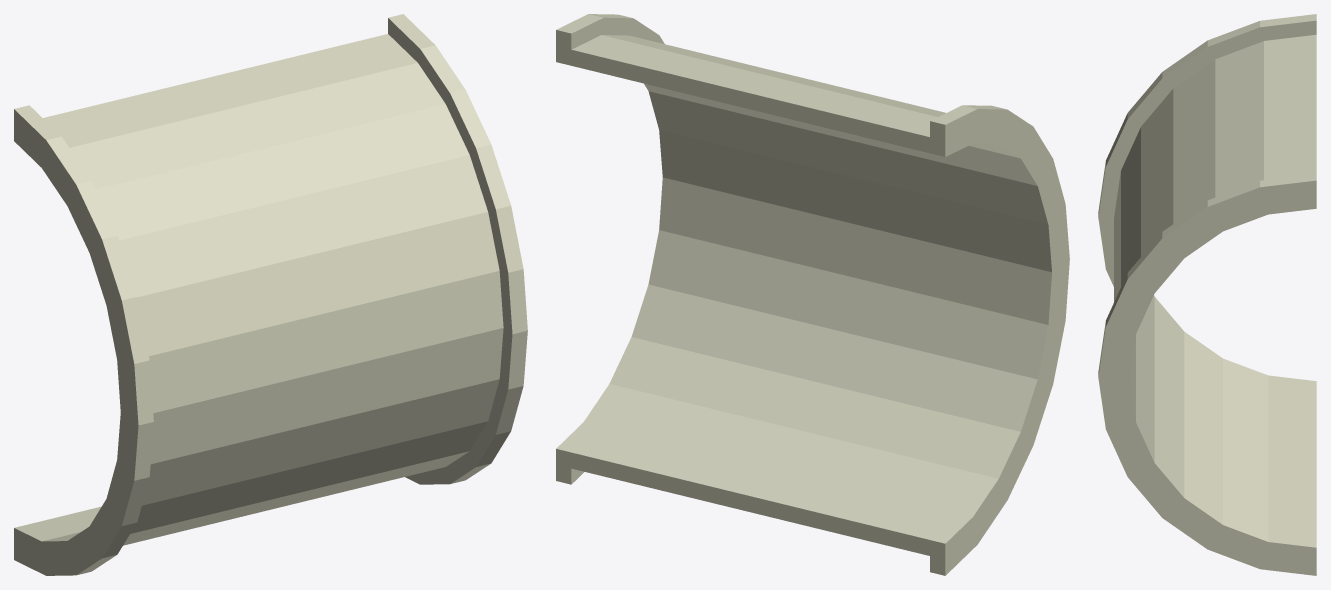
The model's file is section_018.obj.
3 renders of one model, left to right at view 1: azimuth 30°, elevation 25°; view 2: azimuth 150°, elevation 25°; view 3: azimuth 270°, elevation 25°, orthographic. The views are drawn at different scales.
Bounding box in the file's own units: 25.29 × 28 × 14.
